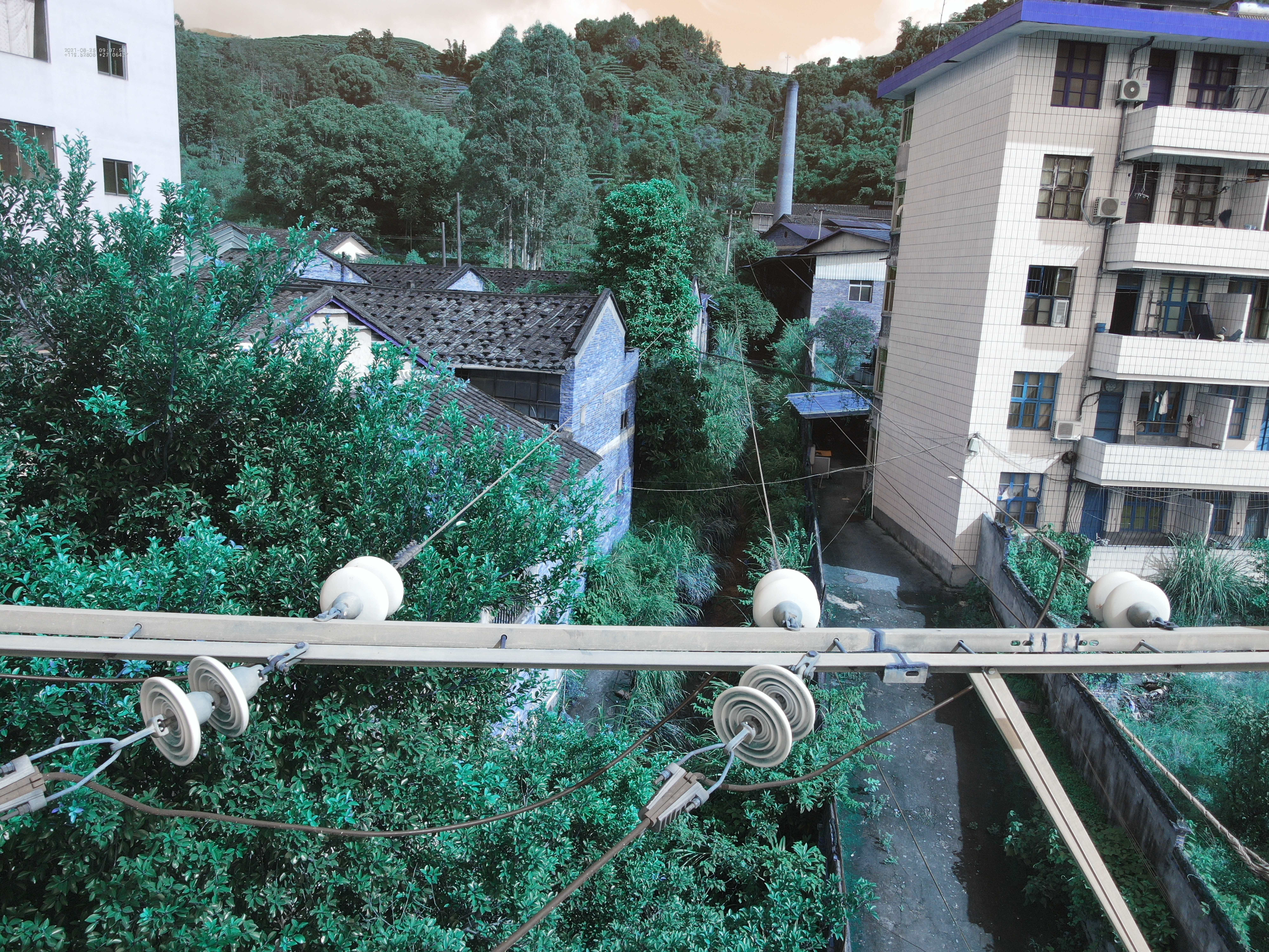severe_soiling_no_discharge_whole: (137, 653, 268, 768), (713, 664, 818, 771)
